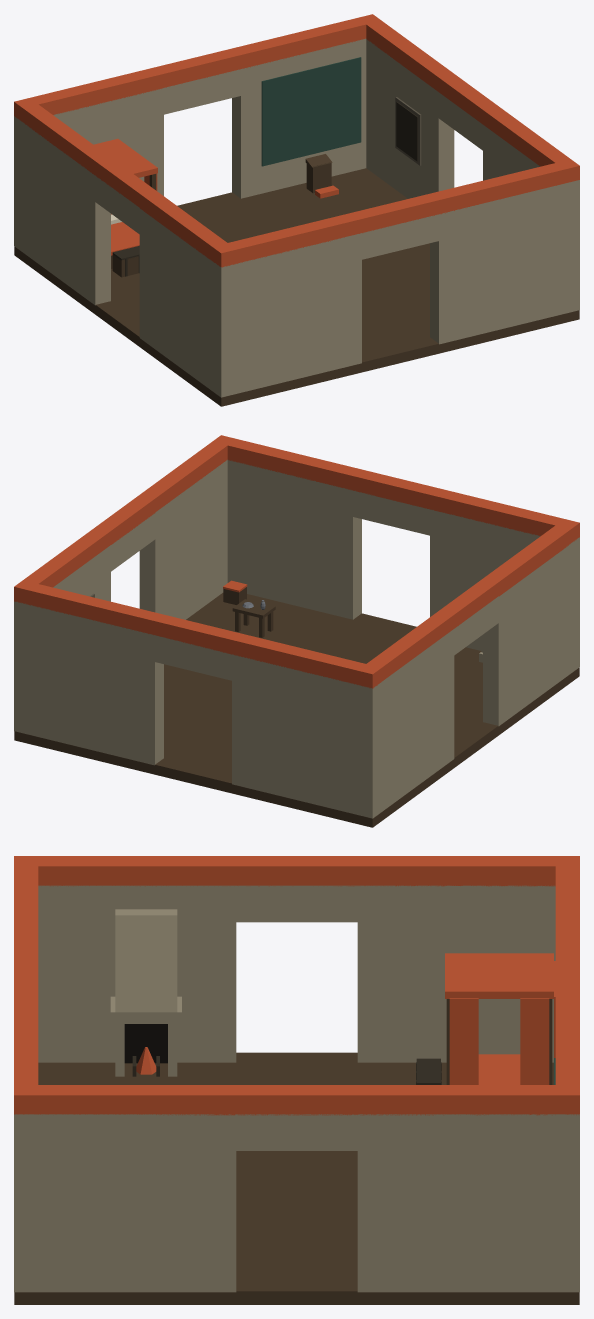
Rendered from LateStateBedchamber.fbx.
The picture shows the model from 3 angles, top to bottom: view 1: azimuth 30°, elevation 25°; view 2: azimuth 150°, elevation 25°; view 3: azimuth 270°, elevation 25°; orthographic projection. The views are drawn at different scales.
Parts seen in each view (by area): view 1: LateStateBedchamber; view 2: LateStateBedchamber; view 3: LateStateBedchamber.
Part boxes in pixels (<box>): LateStateBedchamber: <box>14,14,579,406</box>; LateStateBedchamber: <box>14,435,579,827</box>; LateStateBedchamber: <box>14,856,579,1304</box>.
Bounding box in the file's own units: 1202 × 492 × 1202.
9 materials, 9 textured.
